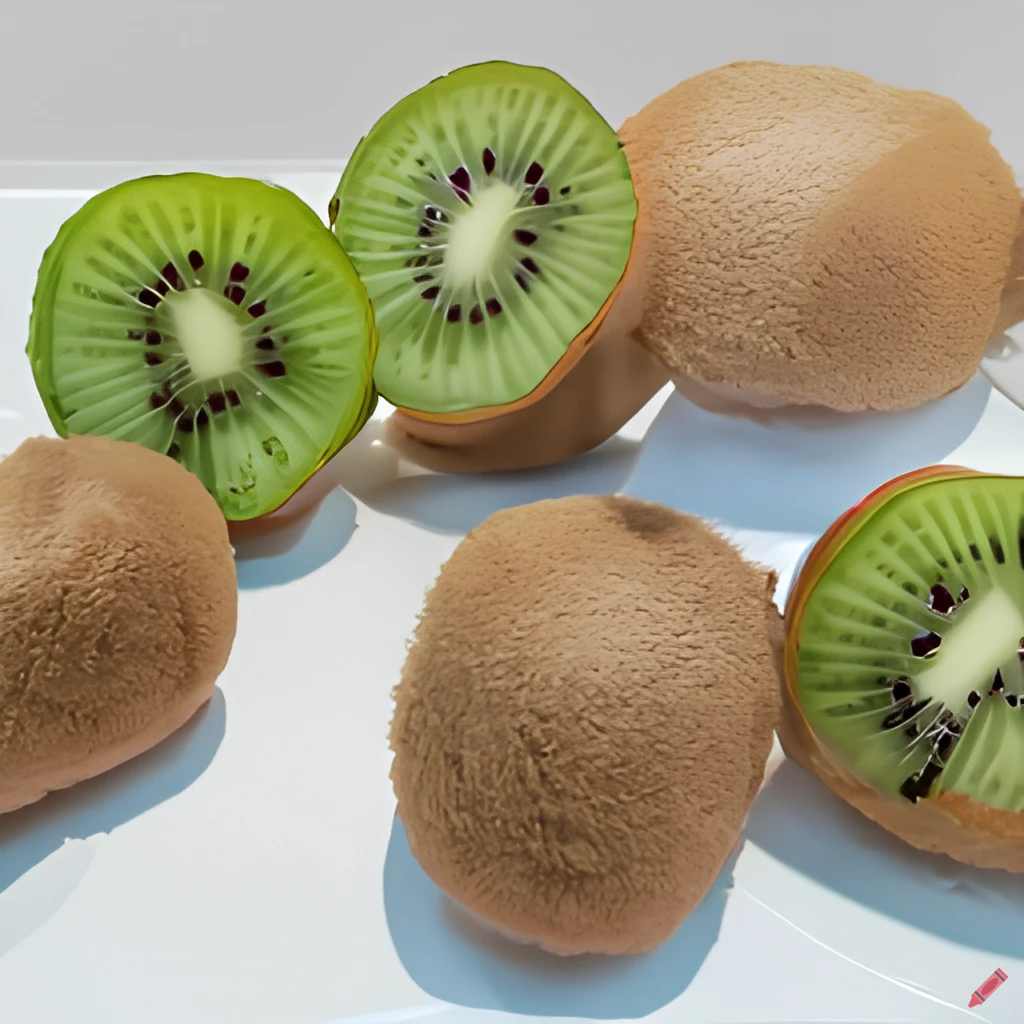Kiwi: (380, 482, 788, 958), (588, 43, 1018, 414)
